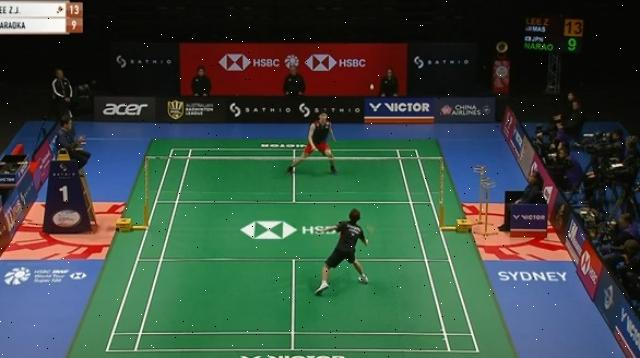Shuttlecock: (367, 81, 375, 91)
